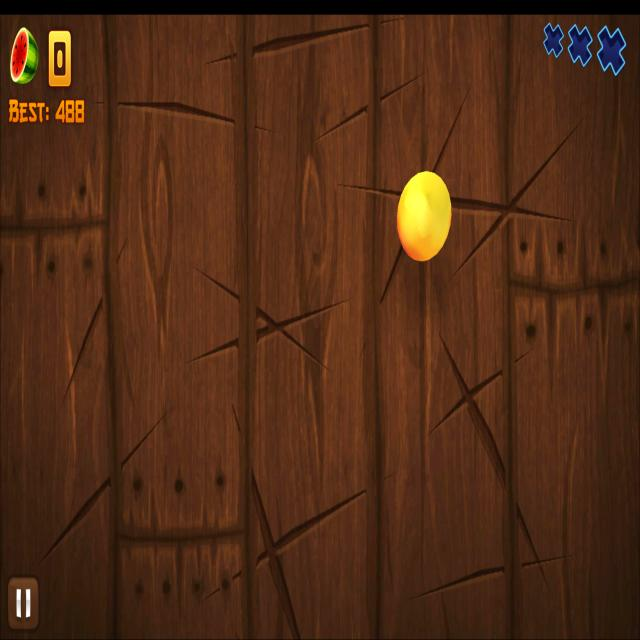fruit: (396, 169, 452, 263)
